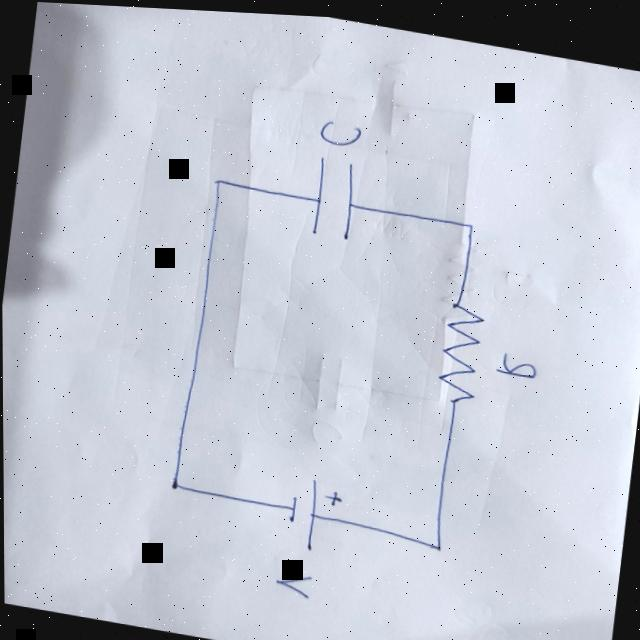capacitor: (307, 149, 363, 240)
junction: (165, 472, 189, 494), (430, 535, 448, 549), (210, 172, 227, 186), (462, 214, 479, 228)
resistor: (434, 293, 490, 404)
source: (282, 469, 346, 553)
text: (316, 114, 365, 147), (495, 344, 543, 375), (273, 567, 315, 596)
